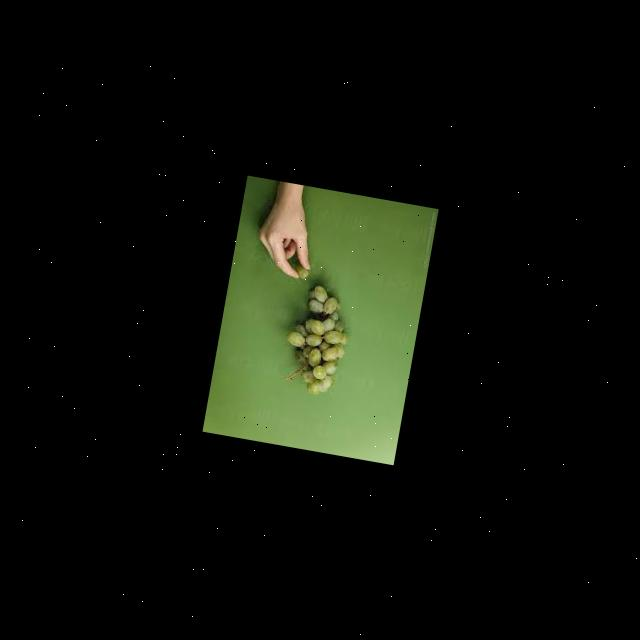grape: (276, 280, 358, 400)
